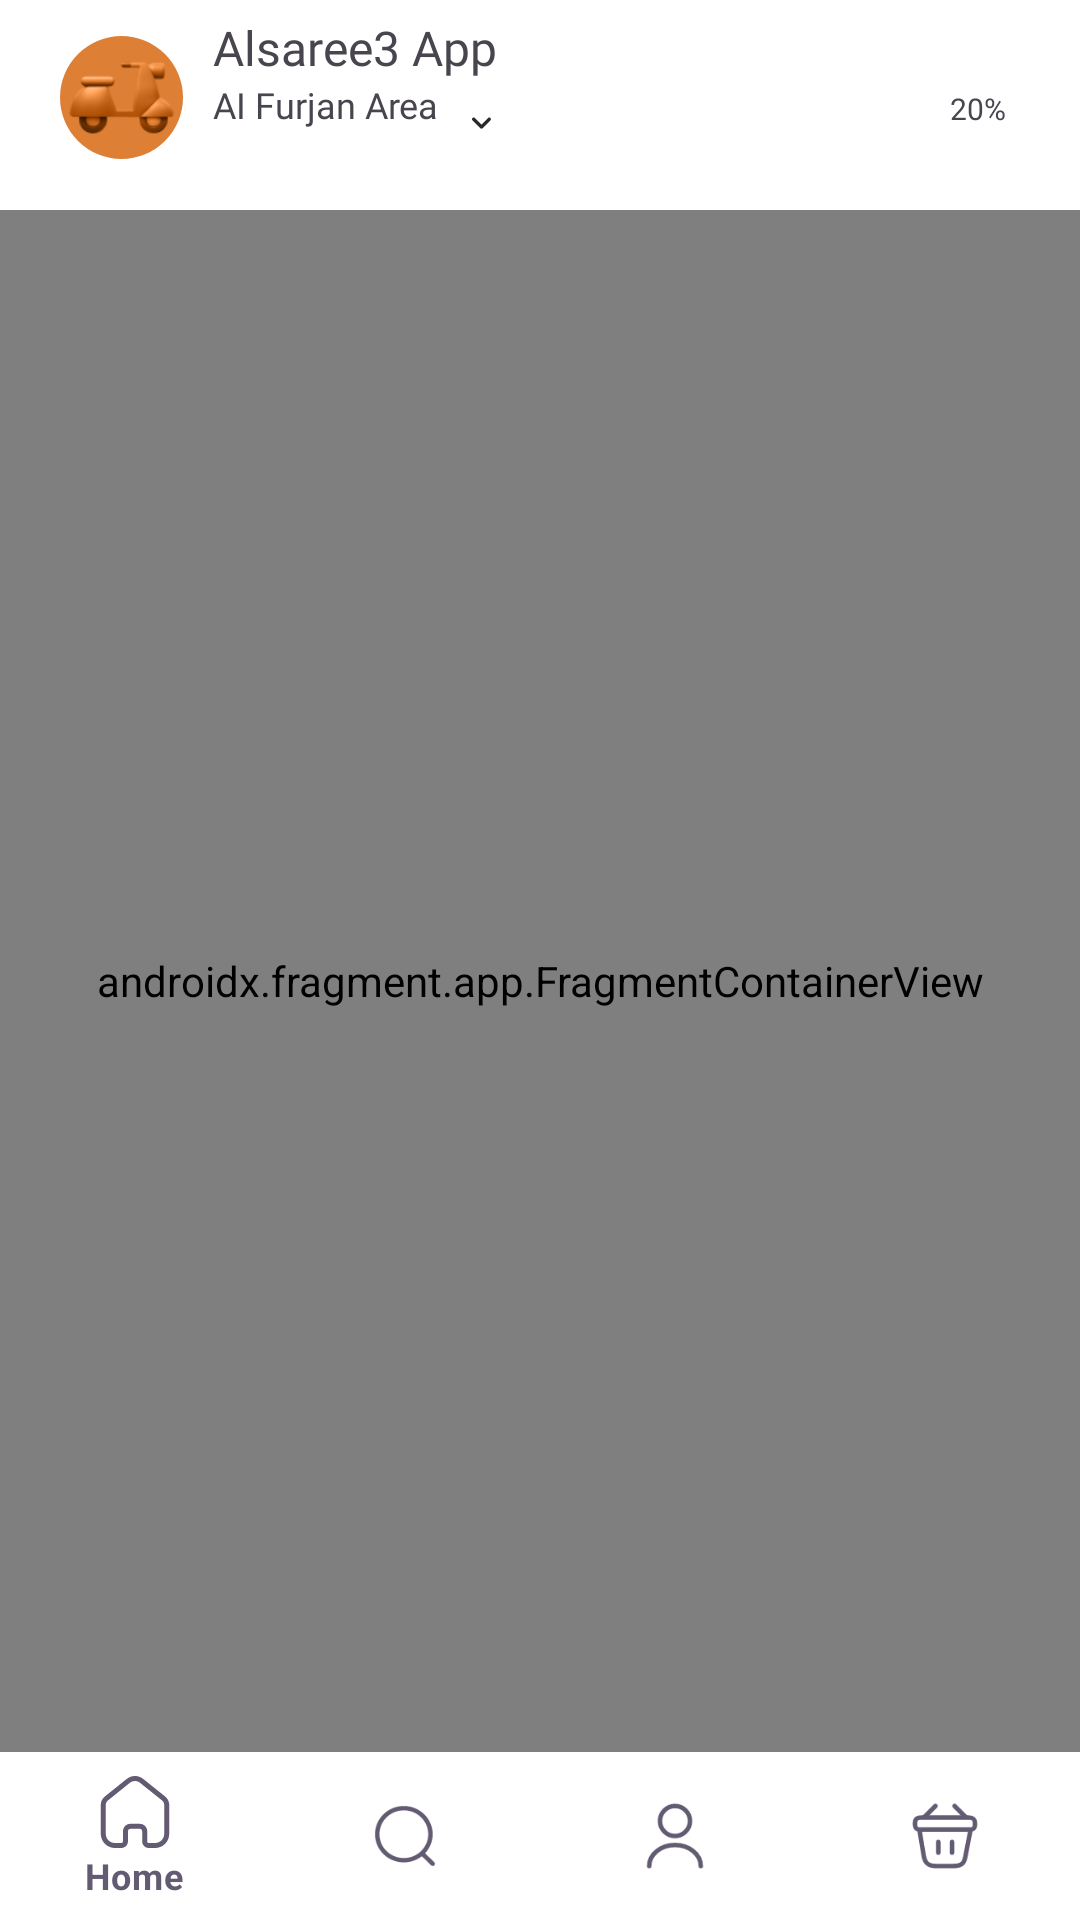

Where to tap for icons on this 1080 × 1920 app screen, as point (x, y):
scooter: point (121, 97)
